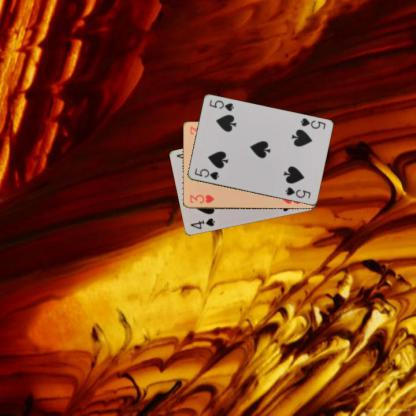3h: (187, 192, 216, 204)
4s: (188, 216, 216, 230)
5s: (192, 166, 220, 181), (298, 116, 326, 130)
